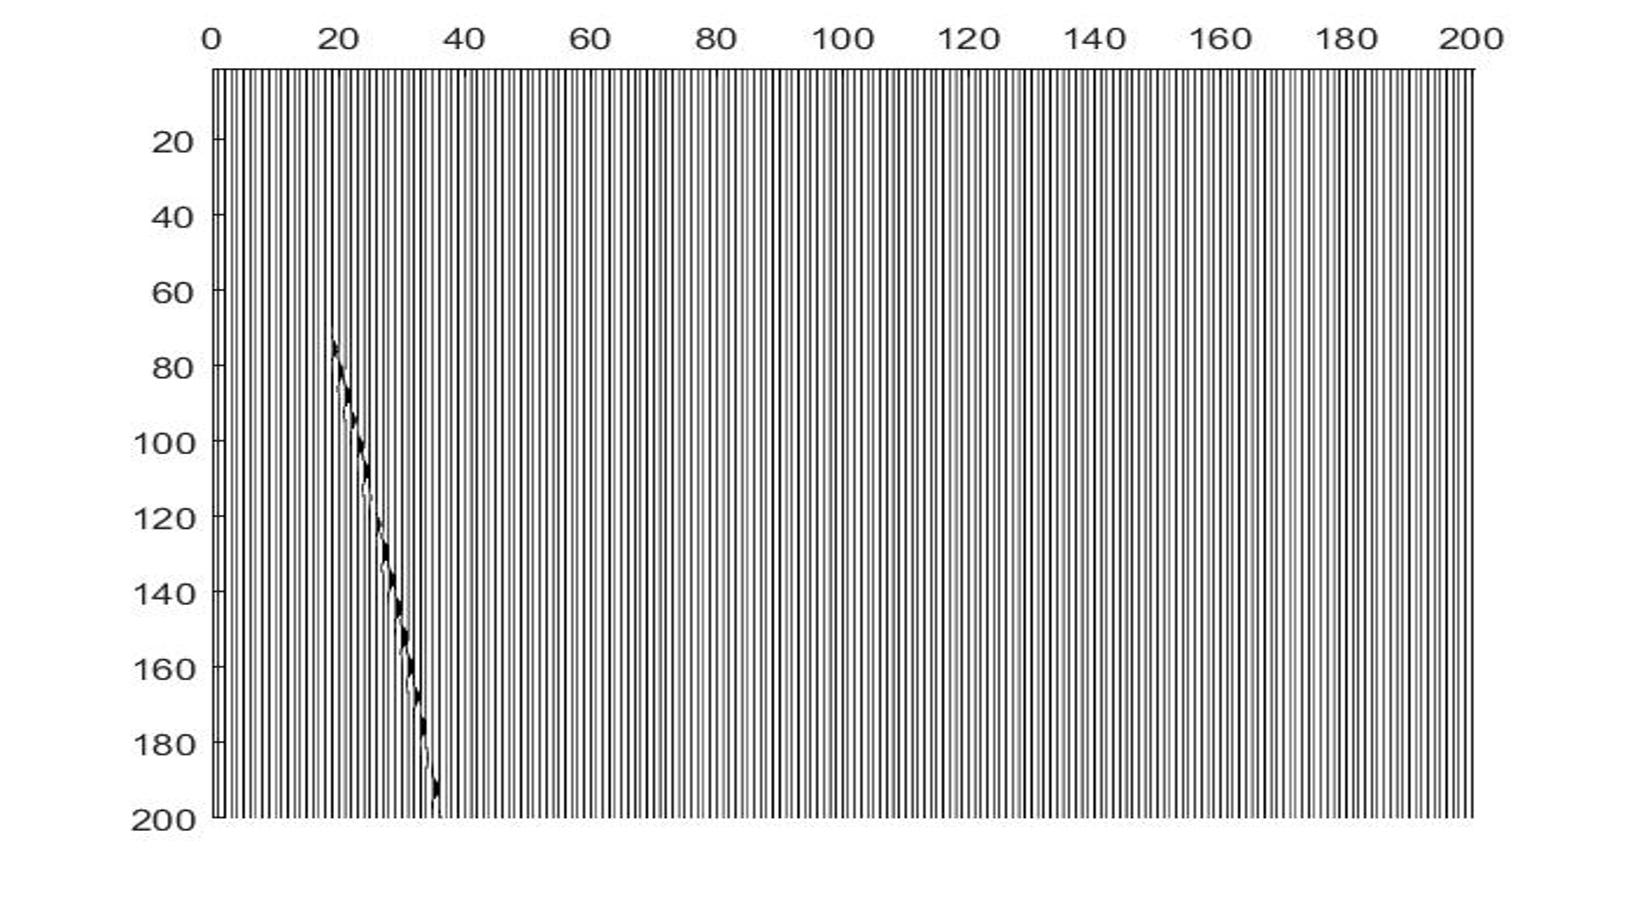signal: (319, 329, 452, 805)
